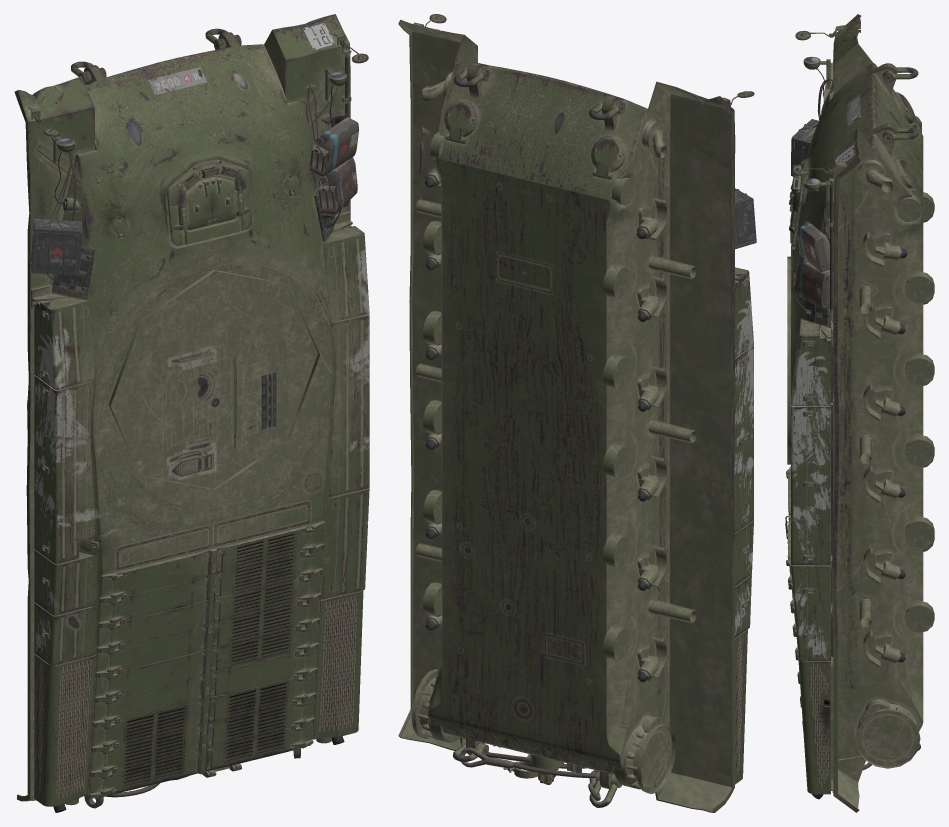
Rendered from Hull.glb.
The picture shows the model from 3 angles, left to right: view 1: azimuth 30°, elevation 25°; view 2: azimuth 150°, elevation 25°; view 3: azimuth 270°, elevation 25°; orthographic projection. The views are drawn at different scales.
Visible parts, largest first — view 1: set_0_group_0, set_0_group_1; view 2: set_0_group_0, set_0_group_1; view 3: set_0_group_0, set_0_group_1.
Part boxes in pixels (x1=…): set_0_group_0: x1=14, y1=14, x2=369, y2=812; set_0_group_1: x1=22, y1=23, x2=358, y2=801; set_0_group_0: x1=398, y1=14, x2=754, y2=812; set_0_group_1: x1=419, y1=28, x2=756, y2=800; set_0_group_0: x1=785, y1=14, x2=934, y2=812; set_0_group_1: x1=791, y1=78, x2=872, y2=770.
Bounding box in the file's own units: 3.17 × 6.55 × 1.35.
Materials: 2 (2 with a texture image).
